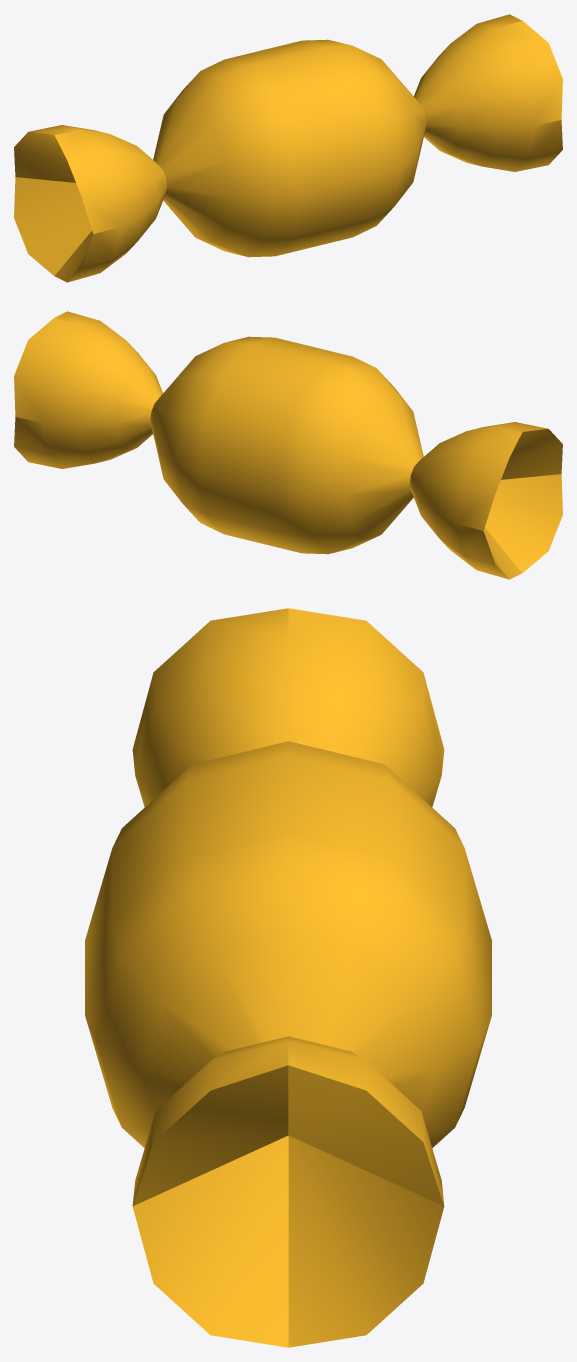
File: candyD.gltf.glb
3 renders of one model, top to bottom at view 1: azimuth 30°, elevation 25°; view 2: azimuth 150°, elevation 25°; view 3: azimuth 270°, elevation 25°, orthographic. The views are drawn at different scales.
Parts seen in each view (by area): view 1: candyD; view 2: candyD; view 3: candyD.
Boxes of the visible parts, left/top/right/bottom form: candyD: left=14, top=14, right=562, bottom=282; candyD: left=14, top=311, right=562, bottom=579; candyD: left=85, top=608, right=491, bottom=1347.
Size of the model in its own units: 0.9694 by 0.3546 by 0.3546.
